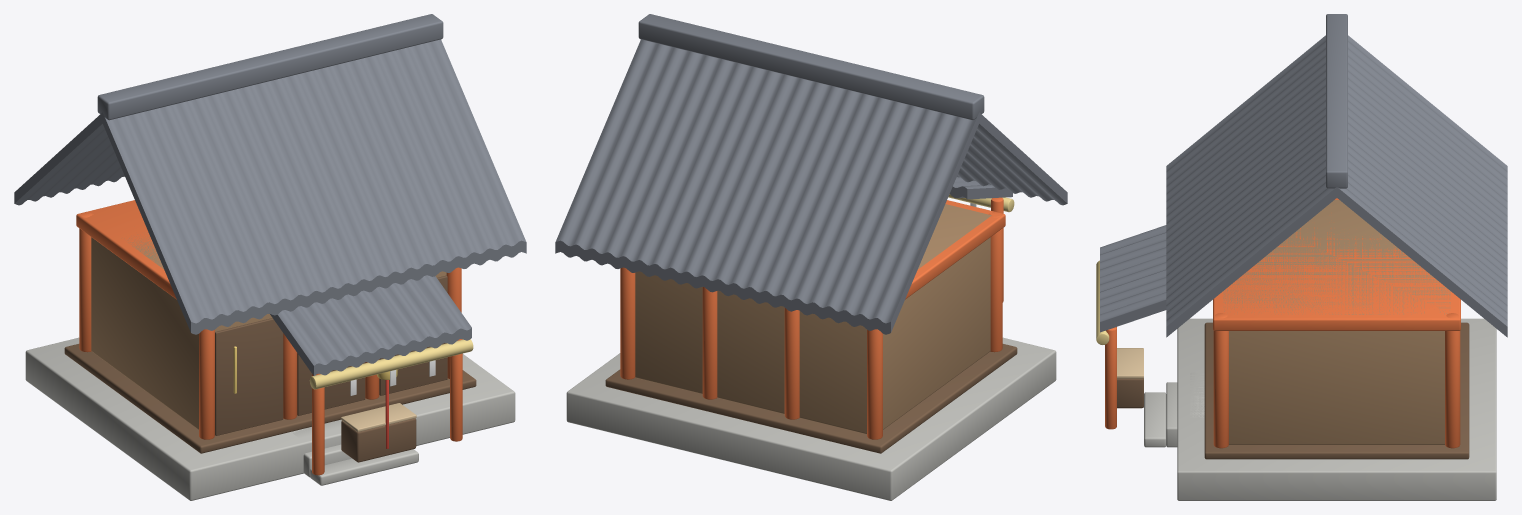
The model's file is honden.glb.
3 views of the same model, side by side, from view 1: azimuth 30°, elevation 25°; view 2: azimuth 150°, elevation 25°; view 3: azimuth 270°, elevation 25° (orthographic). The views are drawn at different scales.
Parts seen in each view (by area): view 1: honden; view 2: honden; view 3: honden.
Part boxes in pixels (x1=…): honden: x1=14, y1=14, x2=526, y2=500; honden: x1=555, y1=14, x2=1067, y2=500; honden: x1=1096, y1=14, x2=1507, y2=500.
Size of the model in its own units: 6.8 by 6.65 by 7.47.
